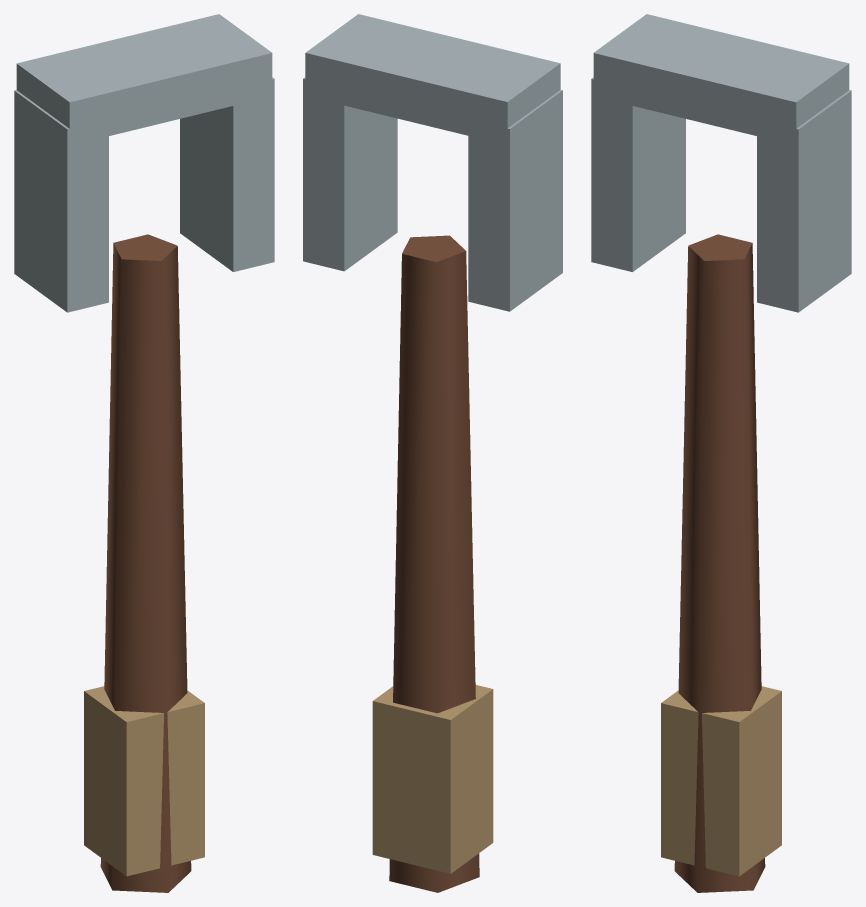
The model's file is wand-4-lod1.glb.
The picture shows the model from 3 angles, left to right: view 1: azimuth 30°, elevation 25°; view 2: azimuth 150°, elevation 25°; view 3: azimuth 330°, elevation 25°; orthographic projection.
Visible parts, largest first — view 1: piece_whole; view 2: piece_whole; view 3: piece_whole.
Part boxes in pixels (left/top/right/bottom): piece_whole: left=14, top=14, right=274, bottom=892; piece_whole: left=303, top=14, right=562, bottom=892; piece_whole: left=591, top=14, right=851, bottom=892.
Bounding box in the file's own units: 0.225 × 0.8475 × 0.1.
